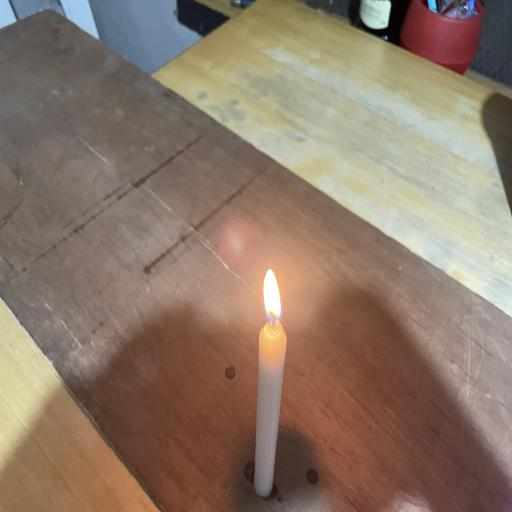fire: (244, 245, 308, 330)
